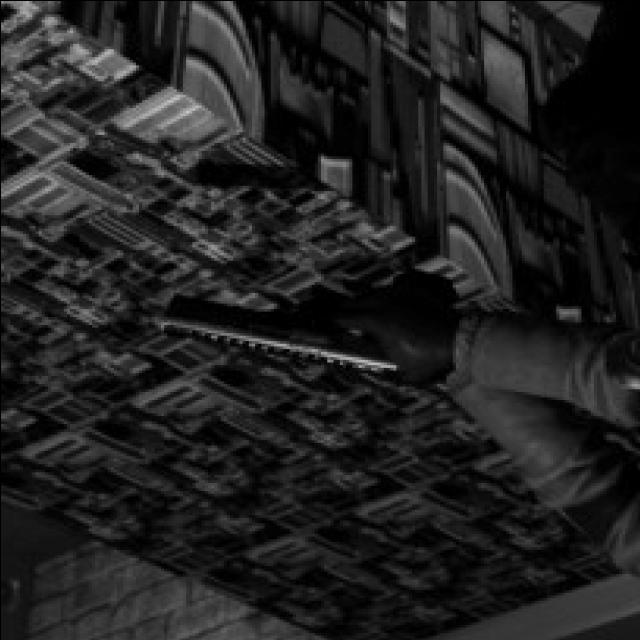pistol: (150, 276, 410, 390)
